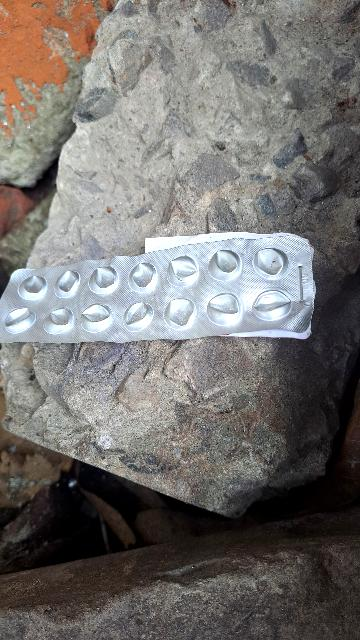medicine: (0, 226, 316, 349)
